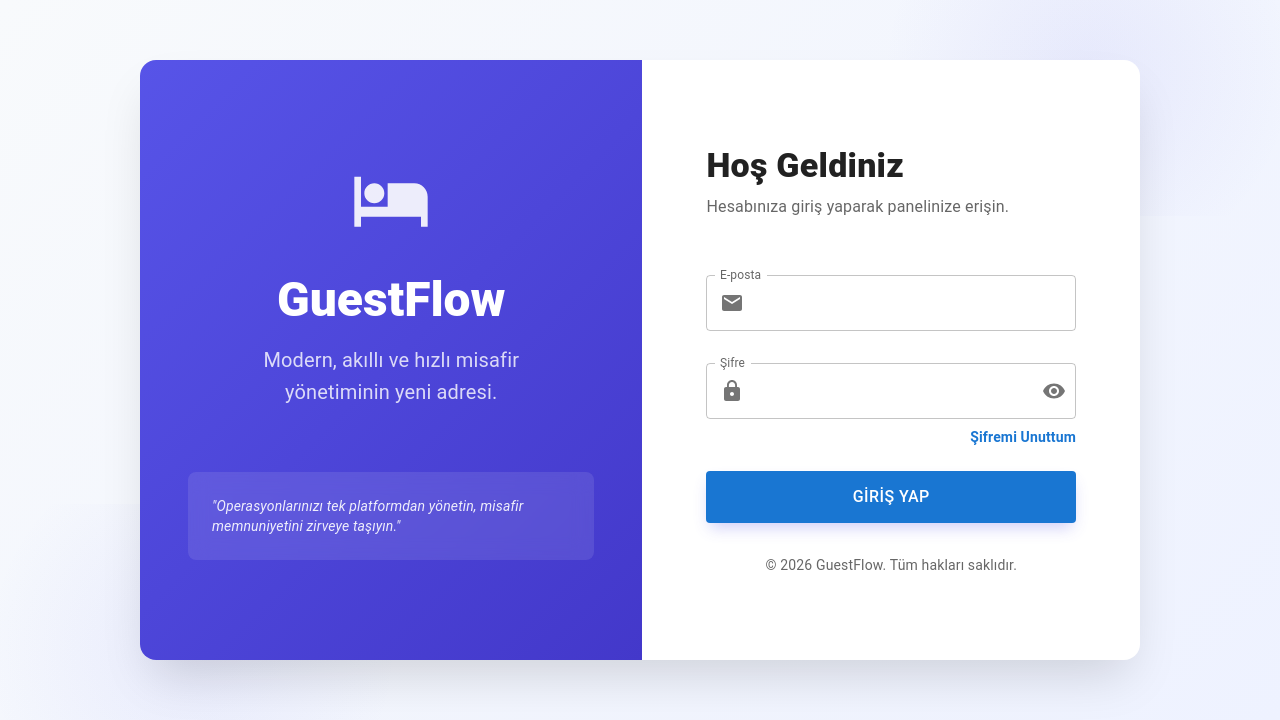
Test case: Auth Integration (LoginPage) › shows error message when login fails
The image size is (1280, 720).
Type "wrong@example.com" into the field labelled "E-posta" at (914, 303), box [752,275,1076,331]
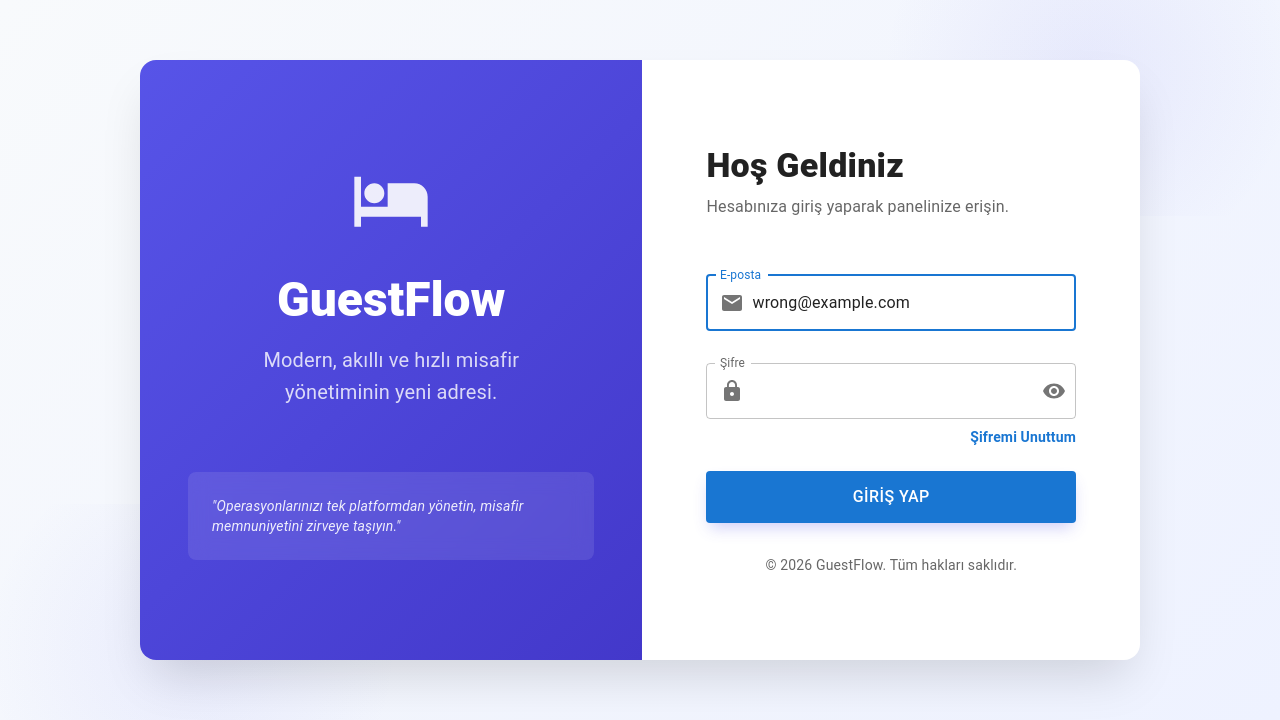
Type "wrongpassword" into the password field labelled "Şifre" at (889, 391), box [752,363,1026,419]
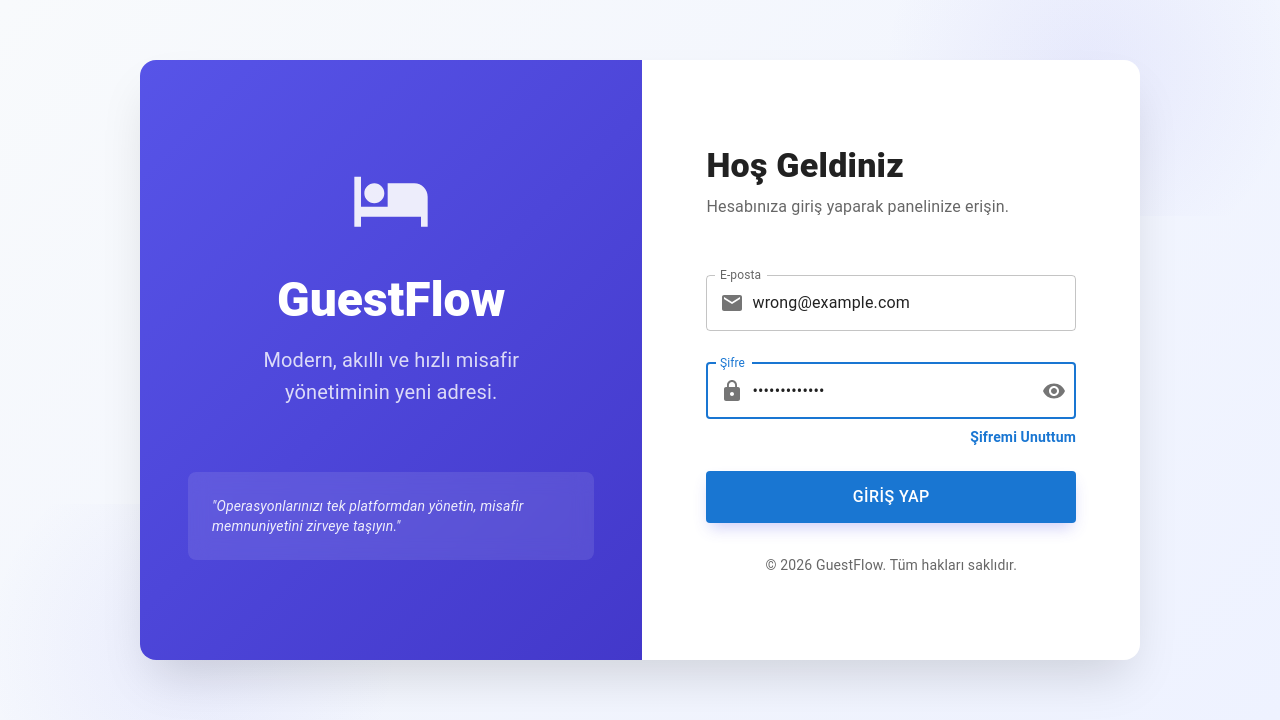
Click the button "Giriş Yap" at (891, 497), box [706,471,1076,523]
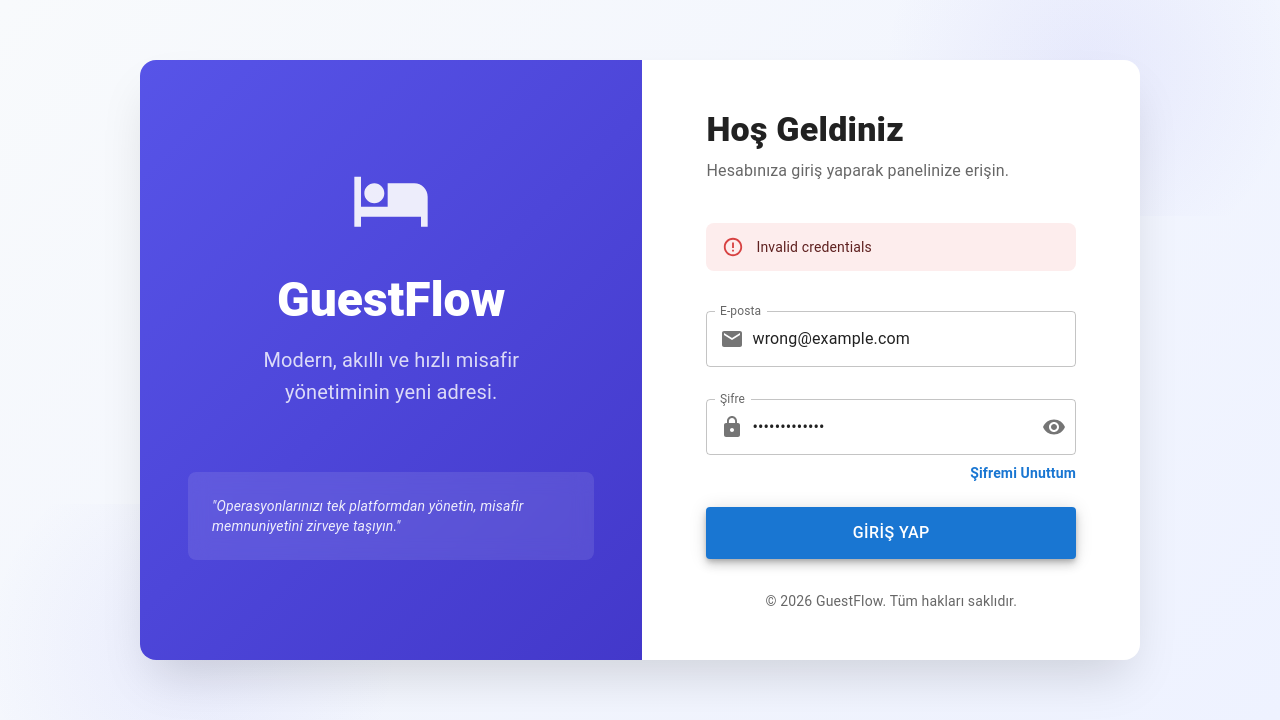
Check: the text "Invalid credentials" is shown, box [756,239,872,255]
